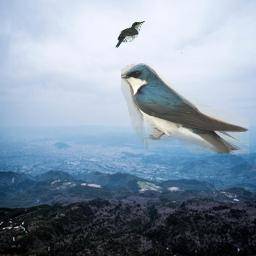Cuckoo: (115, 21, 145, 48)
Swallow: (121, 63, 249, 154)
